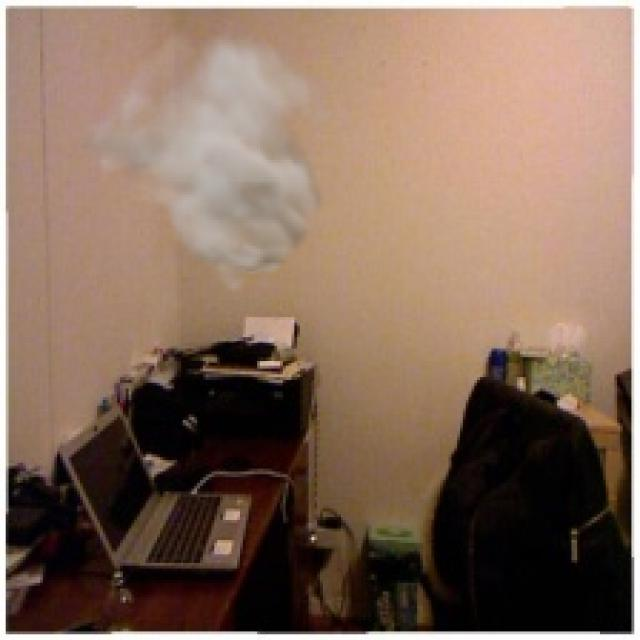smoke: (69, 23, 348, 297)
